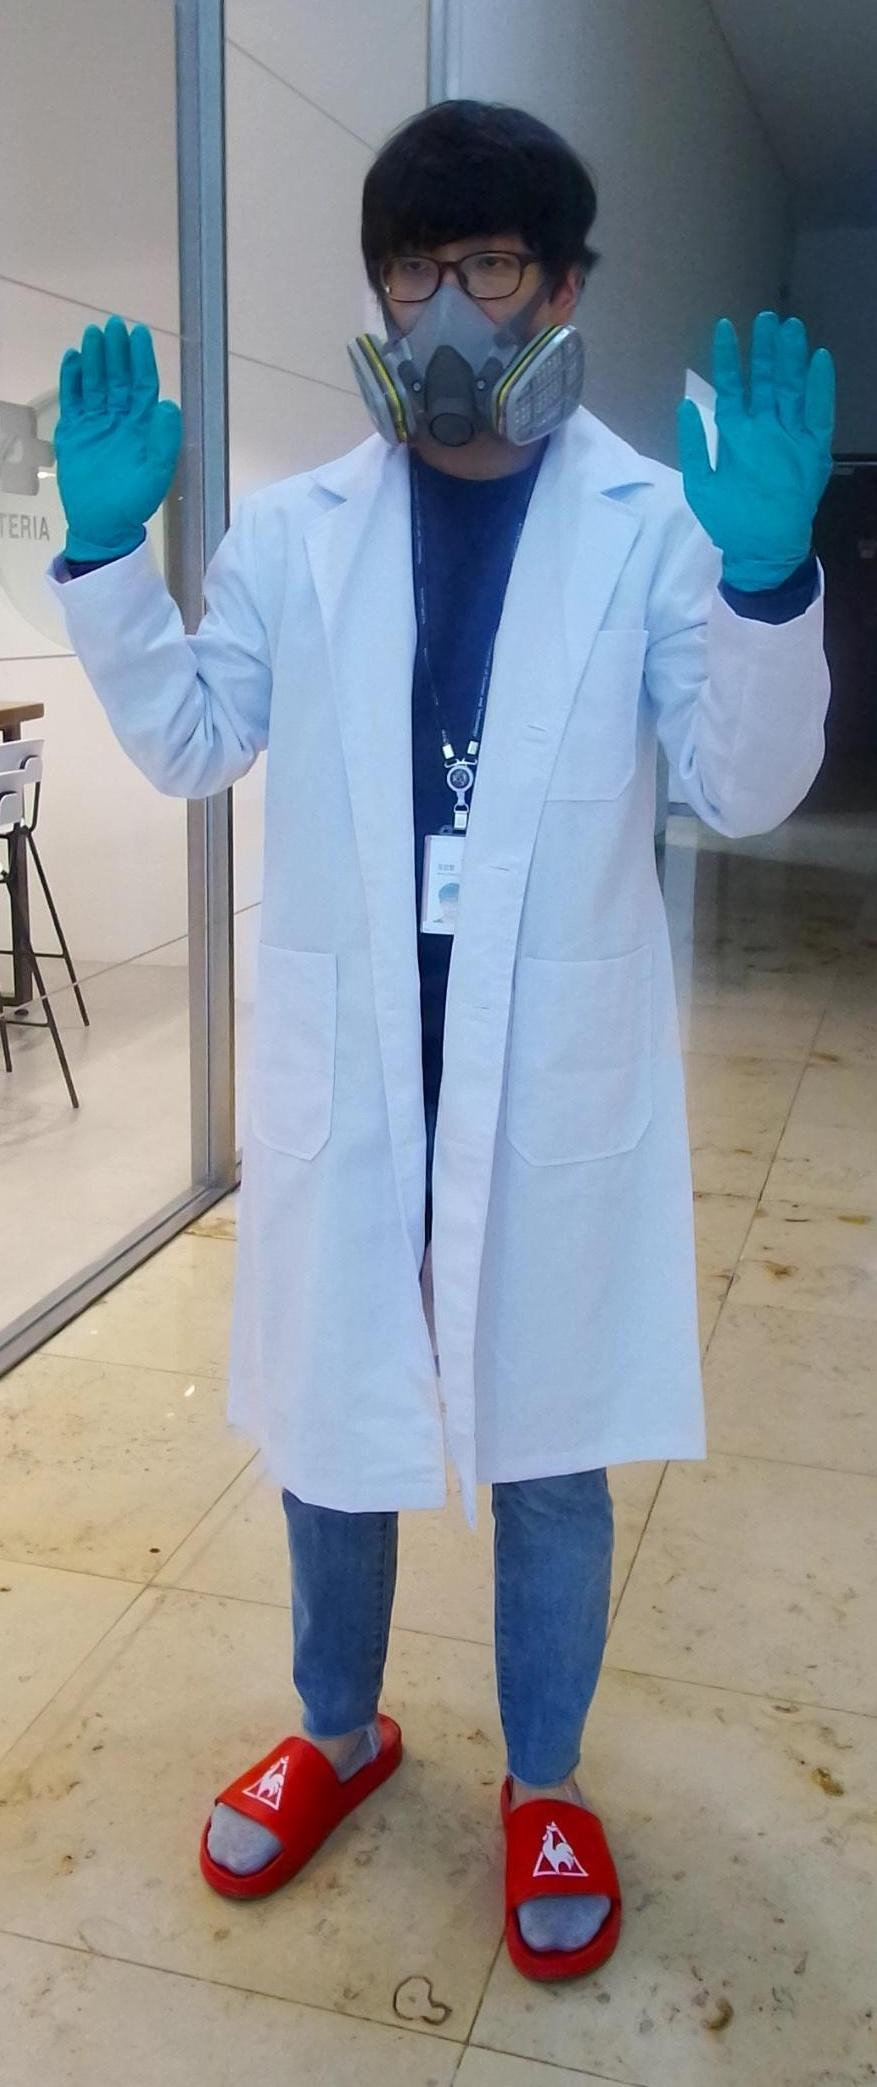lab_coat: (237, 438, 672, 1461)
